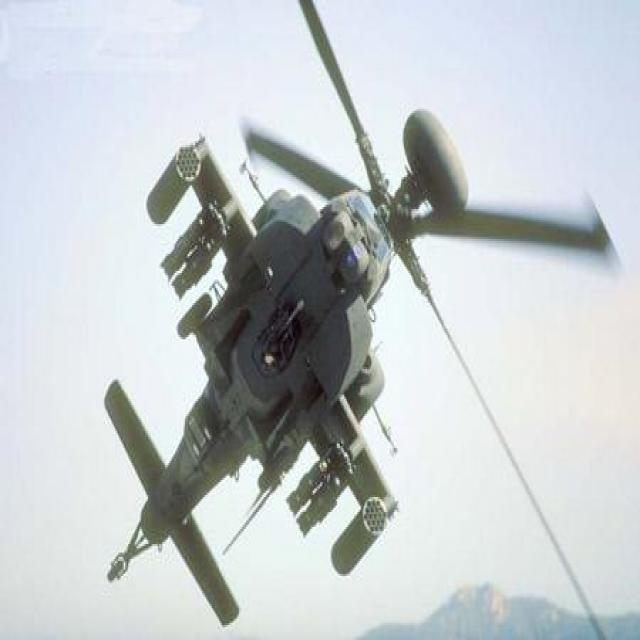MIL_HELO: (94, 11, 623, 624)
